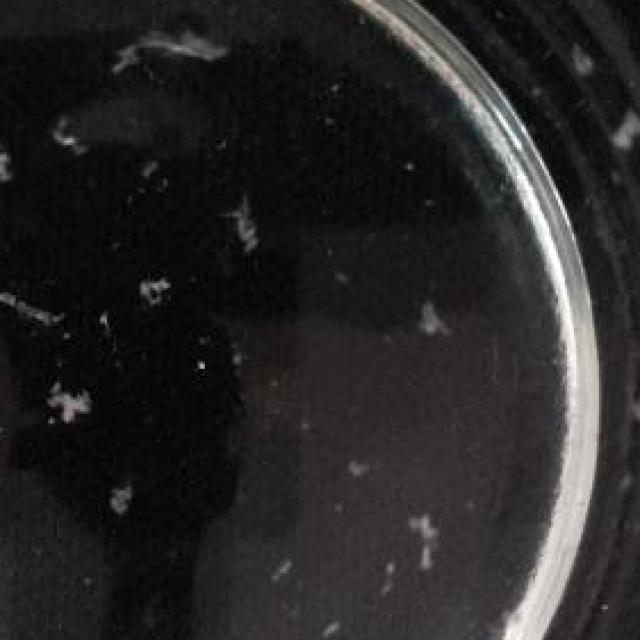Microplastic: (100, 7, 239, 91), (208, 174, 274, 259), (41, 362, 102, 431), (0, 281, 71, 335), (127, 252, 180, 319), (0, 126, 27, 235), (412, 495, 447, 576), (560, 24, 602, 81), (603, 97, 640, 161), (50, 114, 93, 169), (417, 292, 455, 342), (105, 476, 146, 516), (346, 452, 385, 485), (269, 545, 294, 590), (139, 616, 184, 640)
